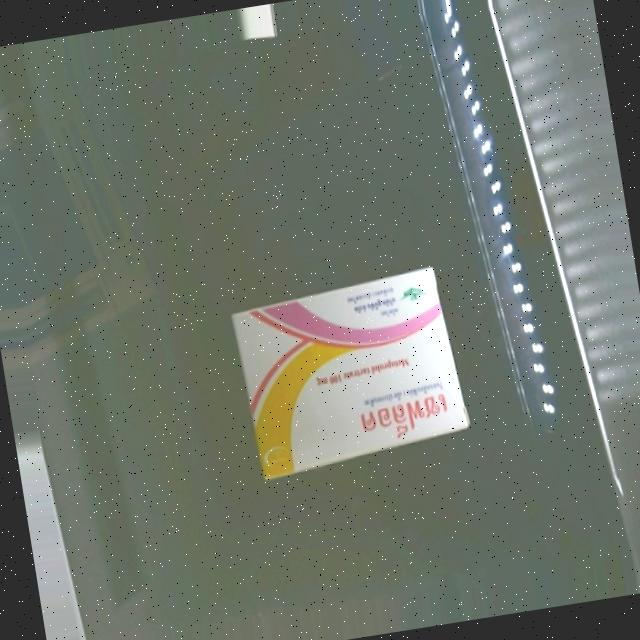sefloc: (231, 267, 477, 481)
